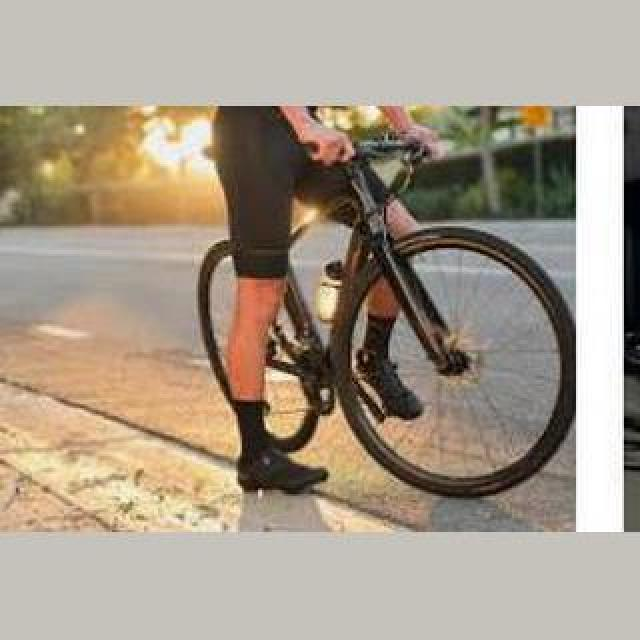MC-Bike: (194, 108, 406, 500)
Person: (193, 107, 575, 503)
